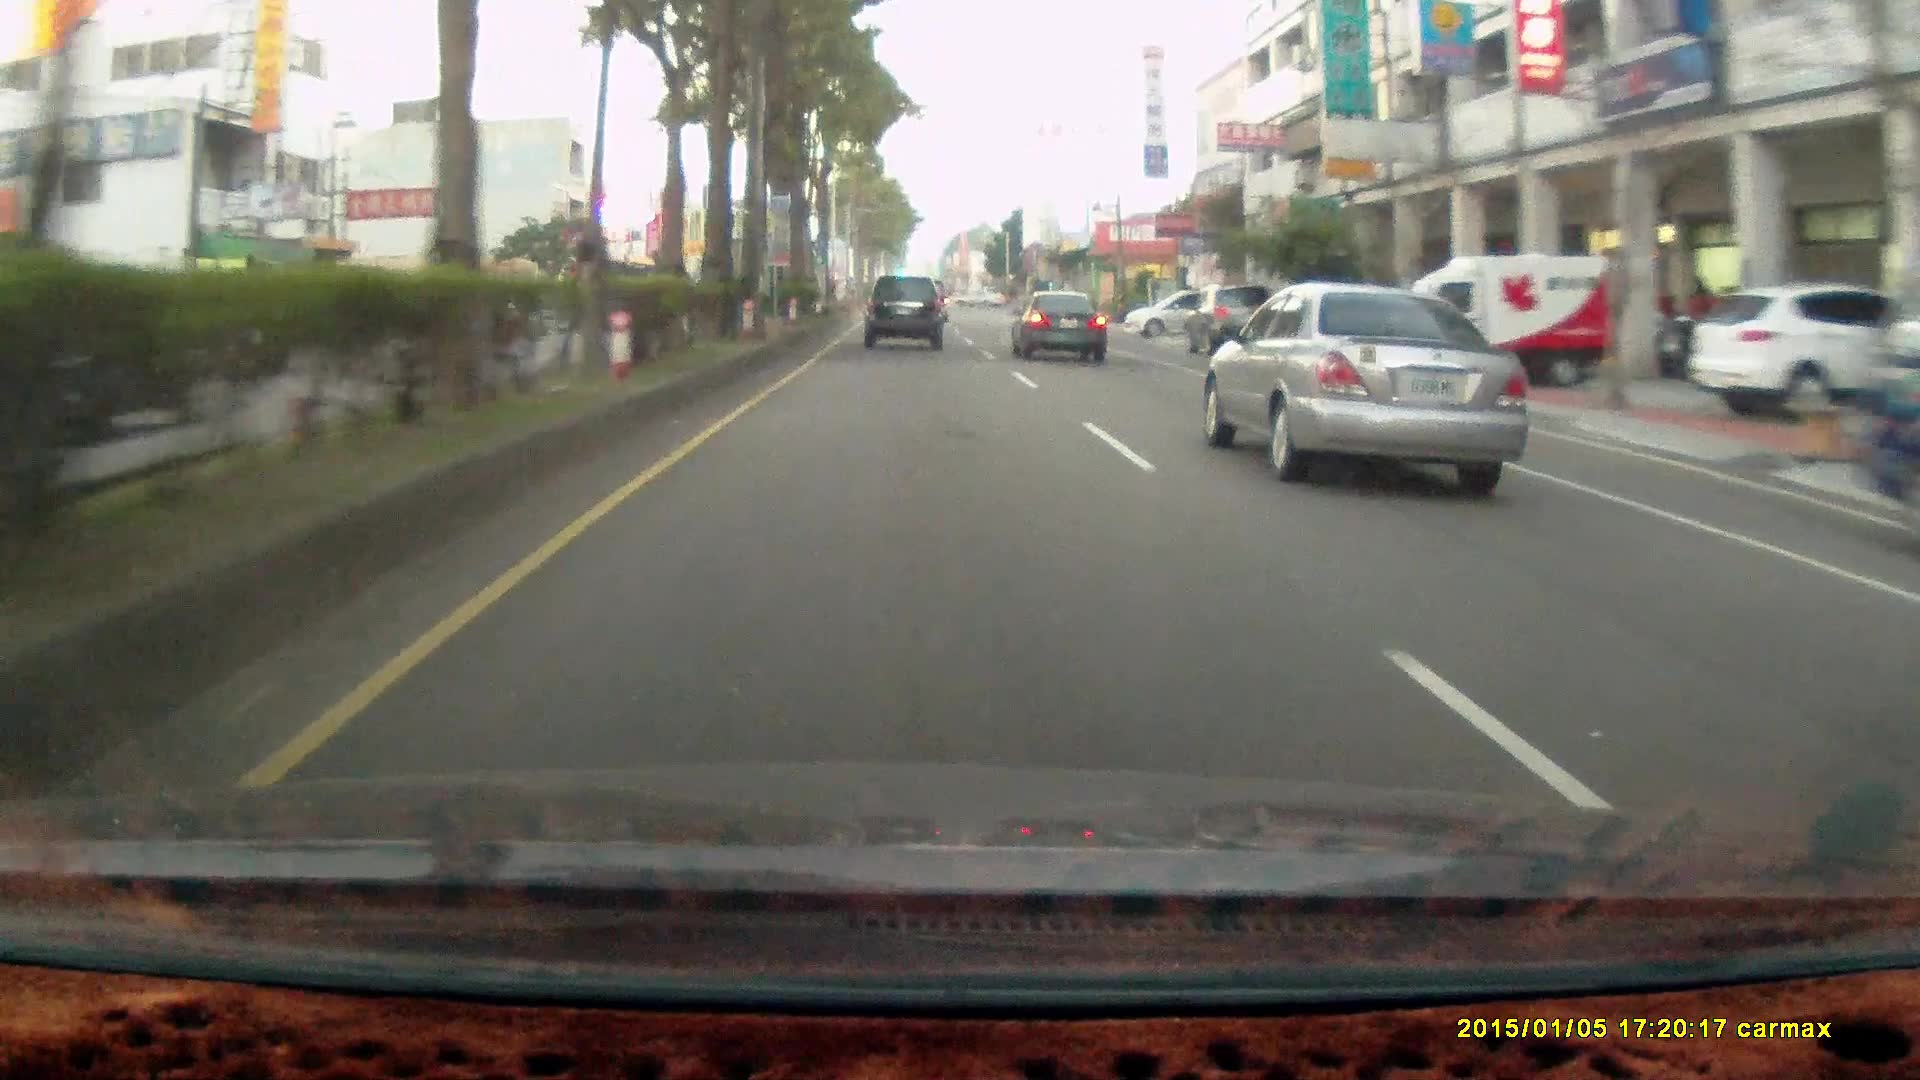vehicle: (1213, 290, 1540, 488), (1383, 249, 1615, 394), (1385, 251, 1617, 396), (1687, 281, 1919, 422), (1687, 280, 1920, 415), (1849, 270, 1920, 558), (1010, 287, 1112, 365), (864, 273, 951, 353), (1010, 291, 1106, 364), (1116, 285, 1237, 342), (1180, 284, 1275, 353), (1118, 287, 1240, 342), (1193, 287, 1283, 359), (862, 276, 943, 349)
